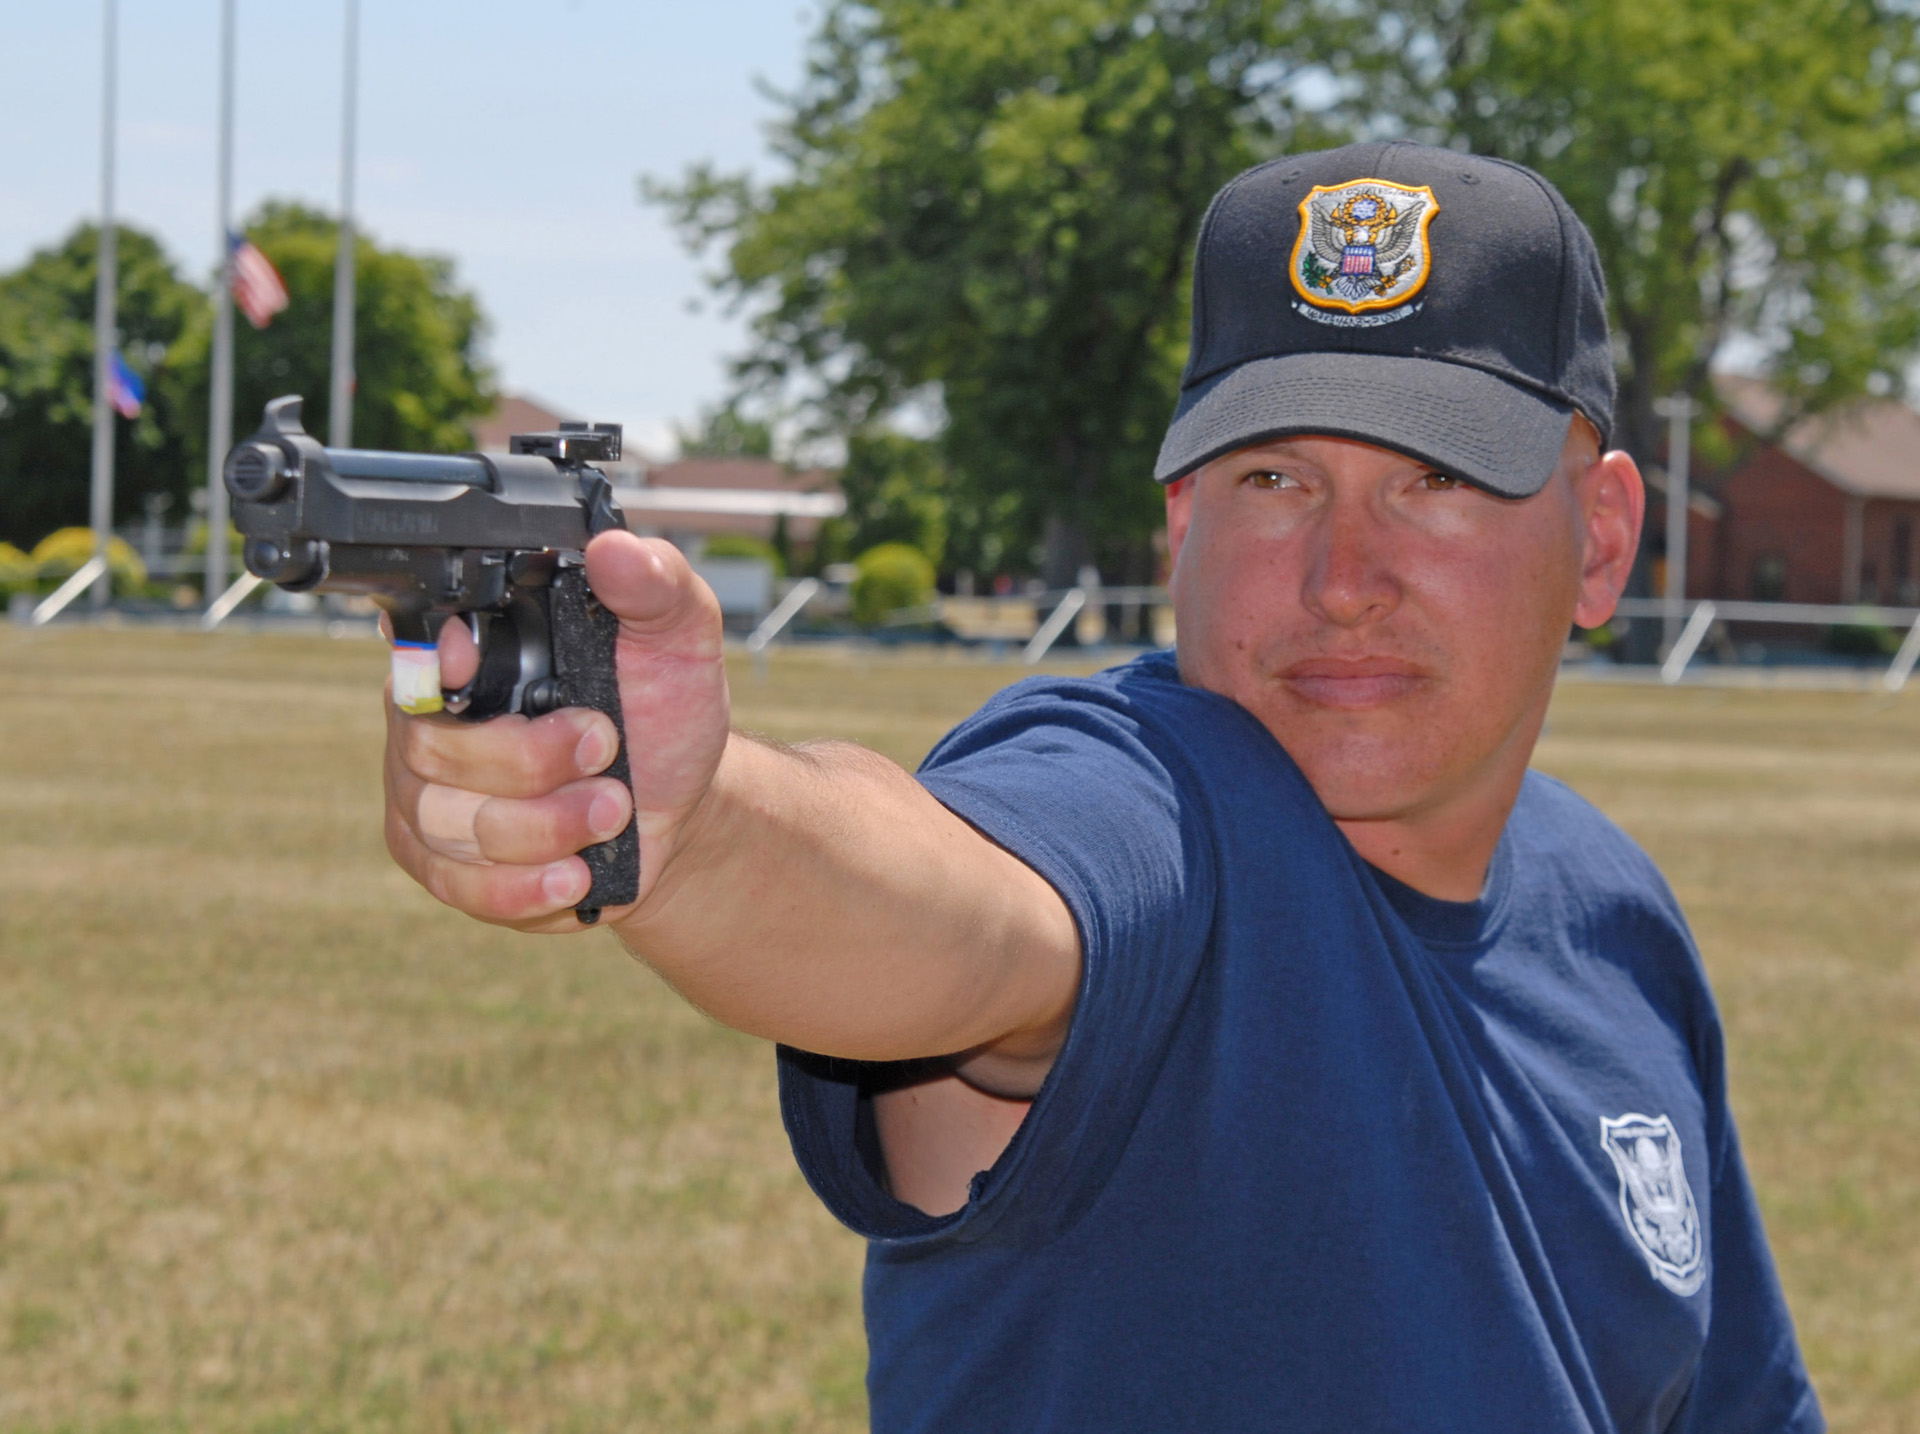pistol: (218, 392, 646, 925)
